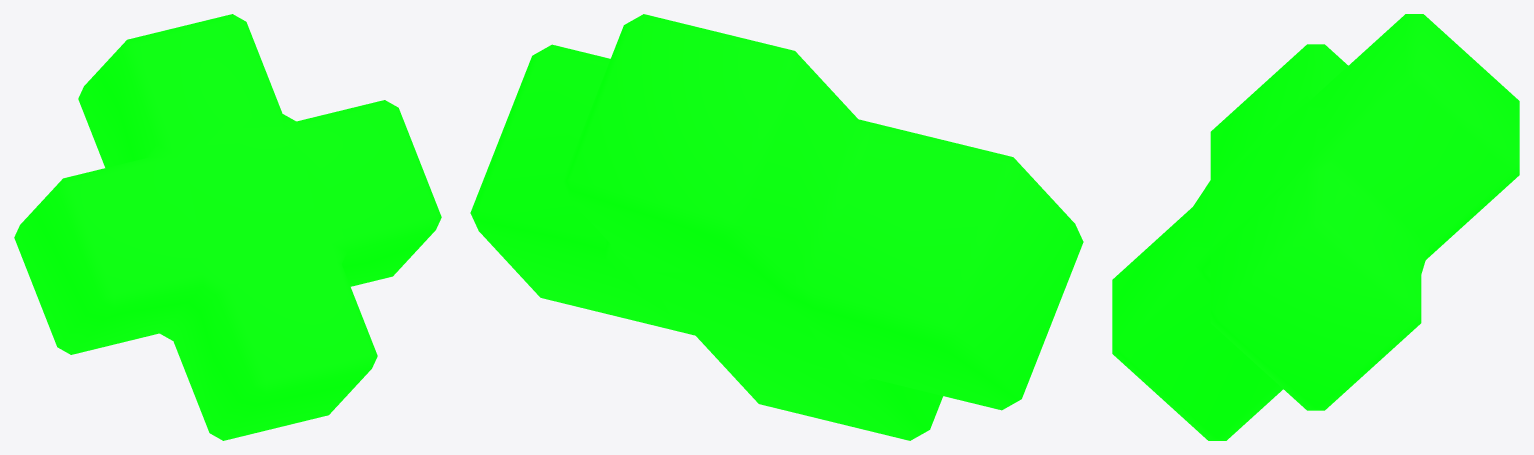
Rendered from heal up.glb.
The picture shows the model from 3 angles, left to right: view 1: azimuth 30°, elevation 25°; view 2: azimuth 150°, elevation 25°; view 3: azimuth 270°, elevation 25°; orthographic projection. The views are drawn at different scales.
Visible parts, largest first — view 1: Cube.001; view 2: Cube.001; view 3: Cube.001.
Part boxes in pixels (x1,y1,x2,y2): Cube.001: (14, 14, 441, 440); Cube.001: (470, 14, 1083, 440); Cube.001: (1112, 14, 1519, 440).
Size of the model in its own units: 0.2772 by 0.2566 by 0.2566.
